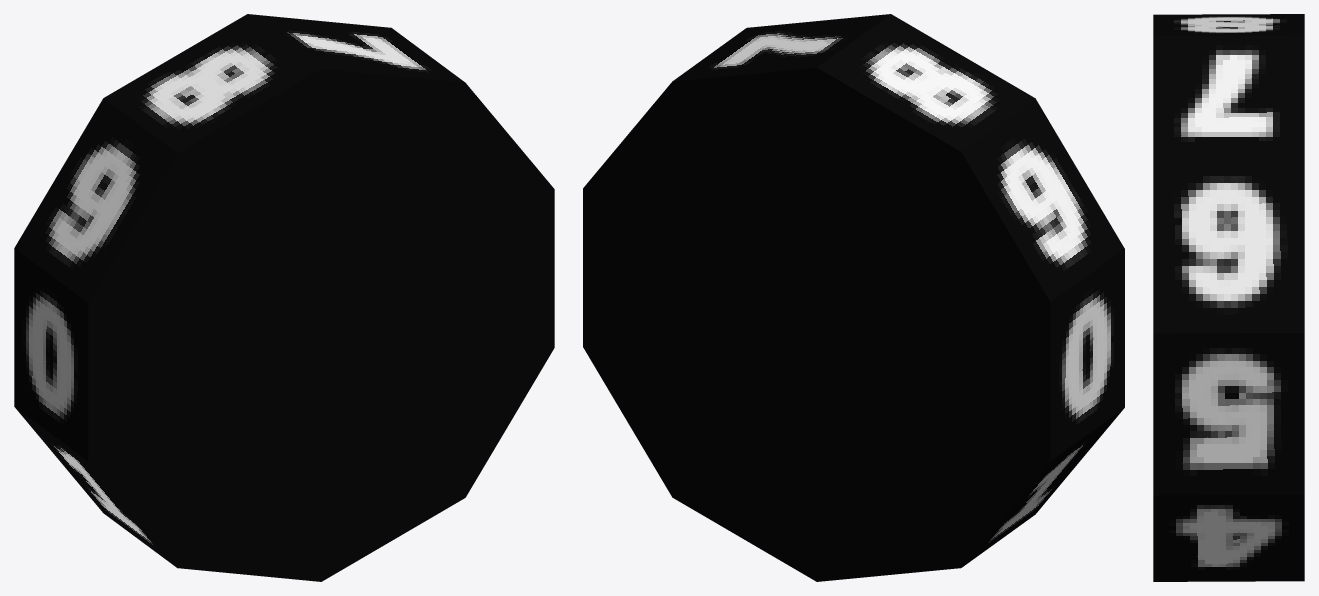
The model's file is Numbers.glb.
3 views of the same model, side by side, from view 1: azimuth 30°, elevation 25°; view 2: azimuth 150°, elevation 25°; view 3: azimuth 270°, elevation 25° (orthographic). The views are drawn at different scales.
Parts seen in each view (by area): view 1: Numbers; view 2: Numbers; view 3: Numbers.
Part boxes in pixels (left/top/right/bottom): Numbers: left=14, top=14, right=554, bottom=581; Numbers: left=583, top=14, right=1124, bottom=581; Numbers: left=1153, top=14, right=1304, bottom=581.
Bounding box in the file's own units: 0.4745 × 0.4996 × 0.1304.
1 material, 1 textured.
